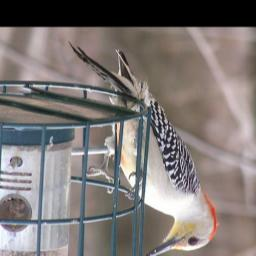Woodpecker: (68, 40, 222, 256)
